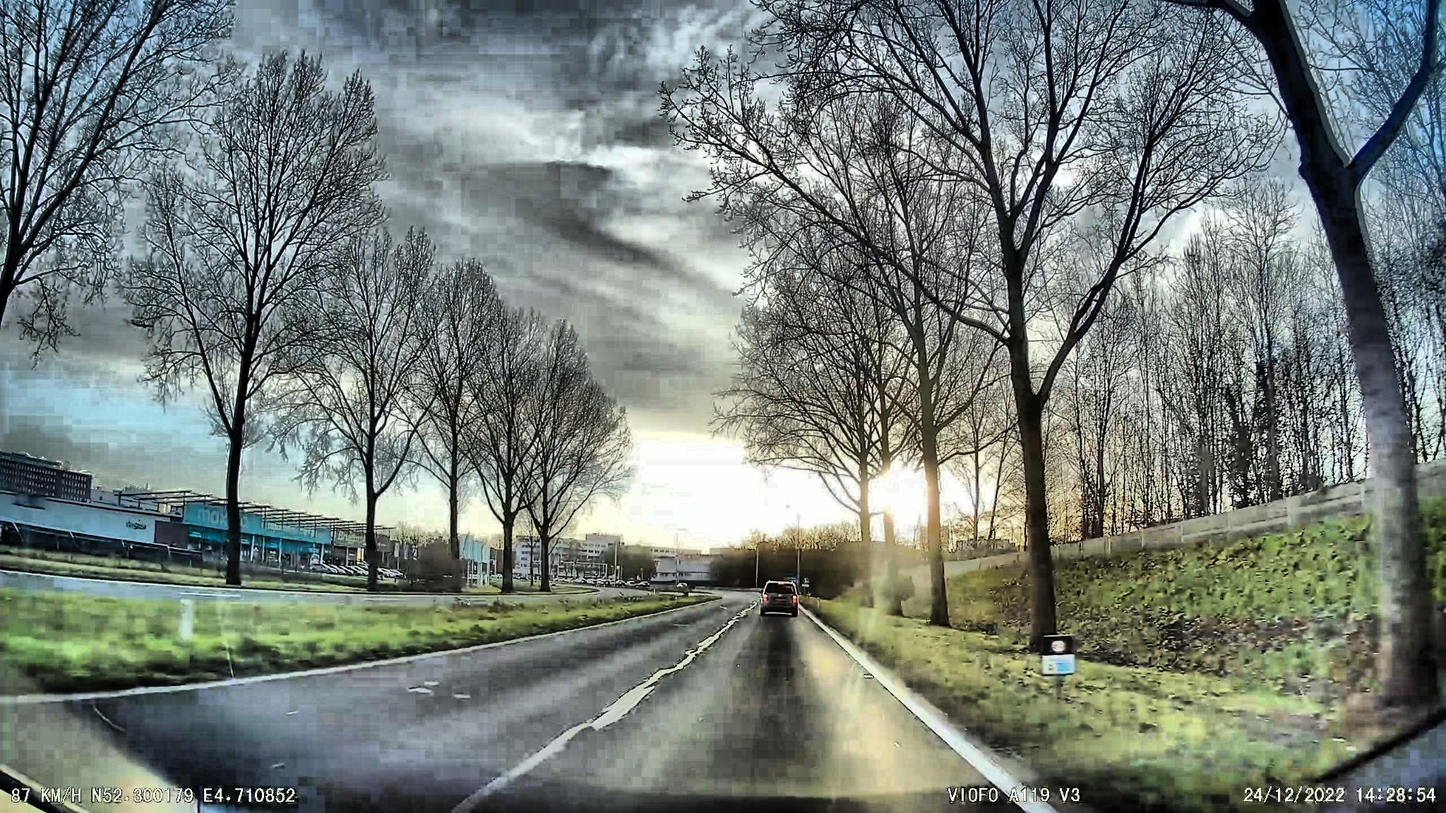Roads: (0, 597, 1126, 813)
